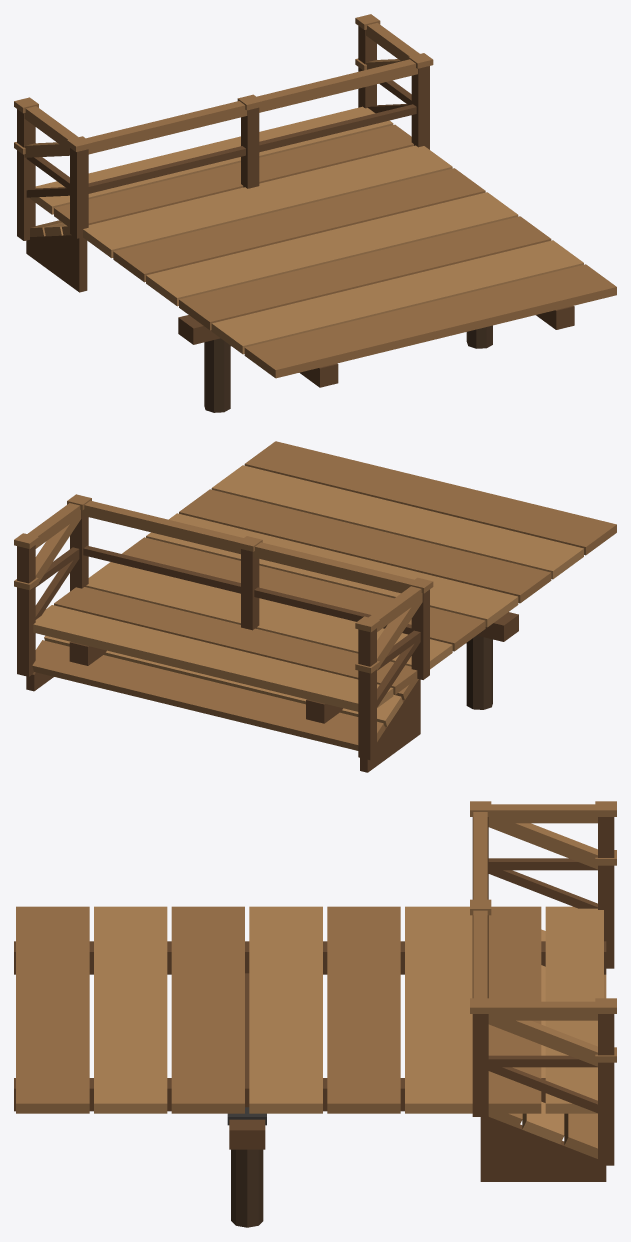
Rendered from Bruecke.fbx.
3 views of the same model, one above another, from view 1: azimuth 30°, elevation 25°; view 2: azimuth 150°, elevation 25°; view 3: azimuth 270°, elevation 25° (orthographic). The views are drawn at different scales.
Visible parts, largest first — view 1: Mitte, ArmFlach, Rand, ArmRampe; view 2: Mitte, ArmFlach, ArmRampe, Rand; view 3: Mitte, ArmFlach, ArmRampe, Rand.
Boxes of the visible parts, x1,y1,x2,y2 form: Mitte: [83, 145, 616, 412]; ArmFlach: [14, 14, 433, 238]; Rand: [70, 59, 417, 193]; ArmRampe: [14, 58, 429, 292]; Mitte: [86, 441, 616, 709]; ArmFlach: [14, 494, 433, 723]; ArmRampe: [14, 501, 429, 772]; Rand: [70, 500, 429, 679]; Mitte: [14, 906, 472, 1227]; ArmFlach: [470, 801, 616, 1116]; ArmRampe: [470, 811, 616, 1181]; Rand: [470, 812, 491, 1116].
Size of the model in its own units: 1.36 by 0.74 by 1.68.
